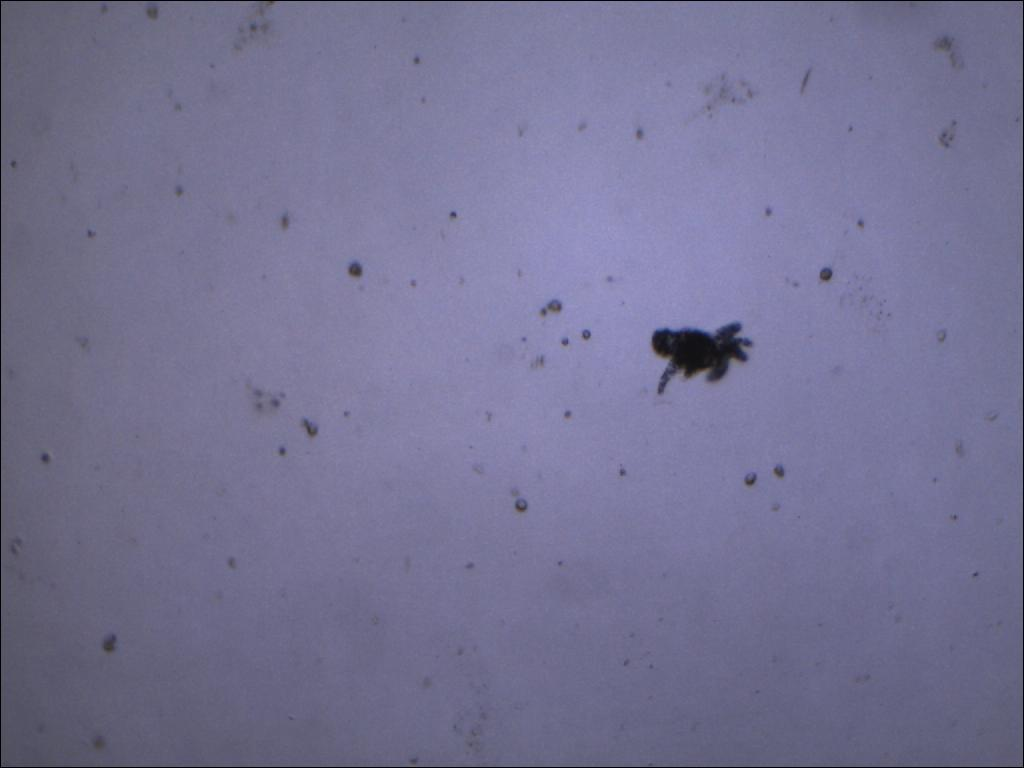amoeba: (641, 307, 767, 414)
